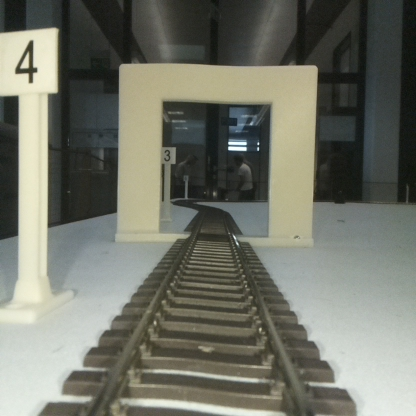white-info-3: (160, 146, 175, 220)
white-info-4: (0, 28, 57, 319)
